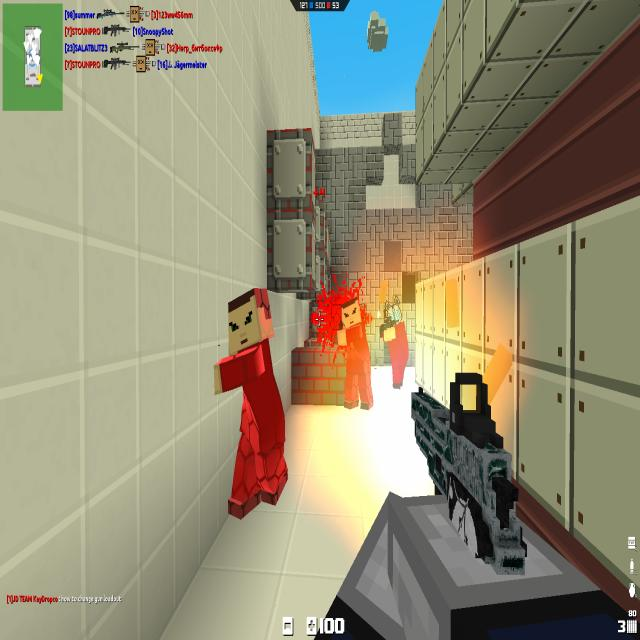player: (215, 289, 289, 514), (338, 295, 374, 409), (380, 297, 409, 387)
